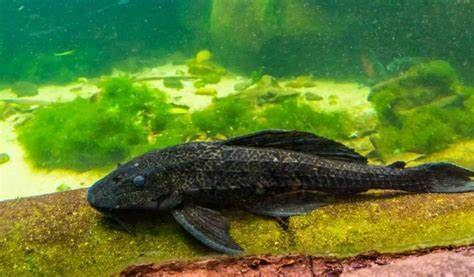Janitor Fish: (88, 129, 474, 256)
